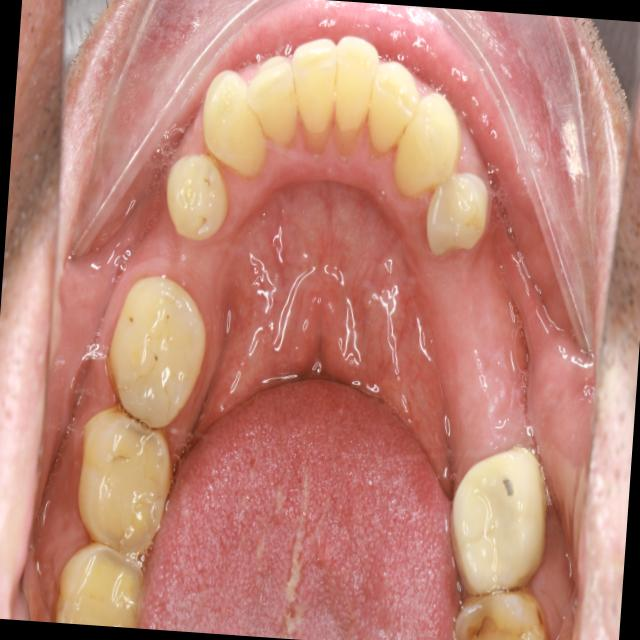tooth: (427, 425, 564, 612), (94, 265, 222, 441), (63, 403, 187, 573), (192, 59, 290, 198), (381, 65, 468, 210), (279, 20, 352, 164), (48, 528, 151, 628), (358, 43, 432, 173), (441, 564, 566, 640), (240, 38, 311, 162), (325, 18, 386, 161), (159, 147, 241, 253), (414, 166, 498, 268)
